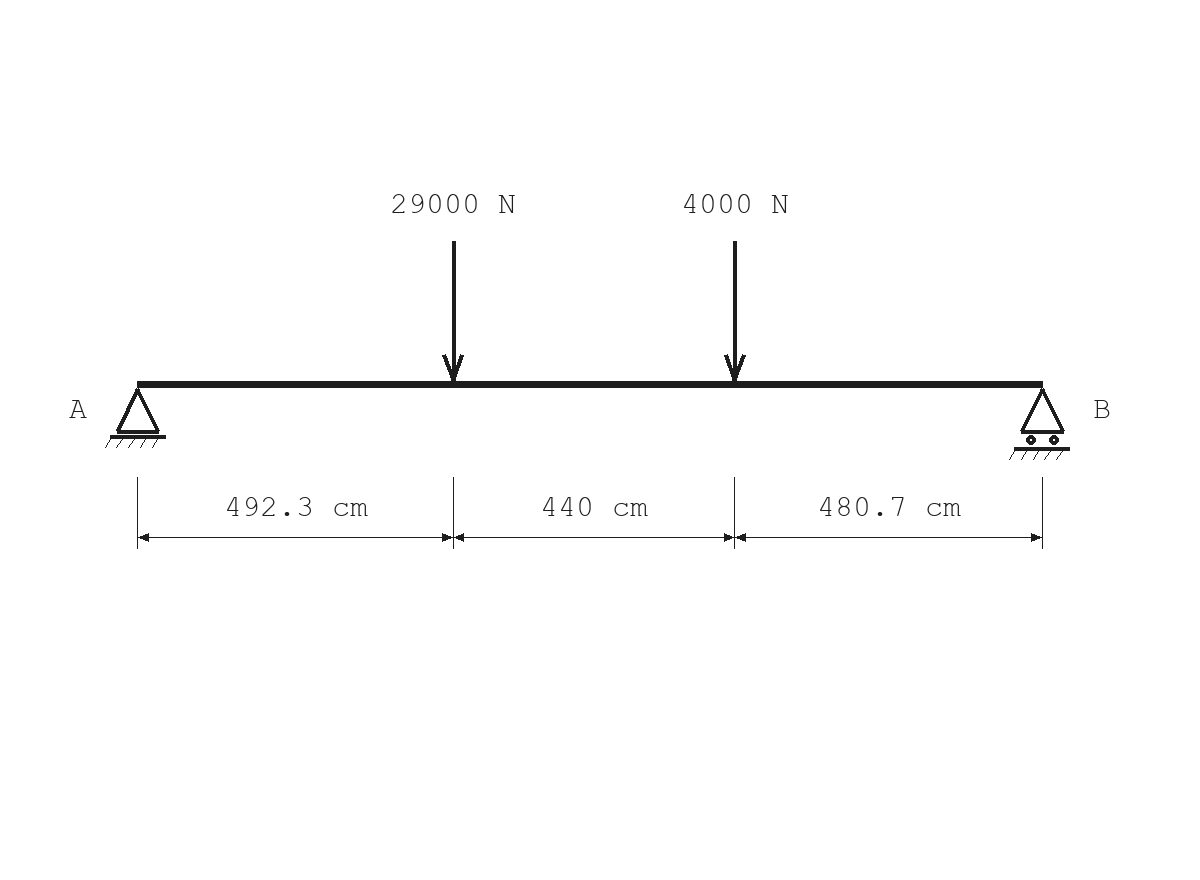pin_support: (105, 388, 166, 448)
point_load: (442, 241, 464, 382), (724, 241, 746, 382)
roller_support: (1009, 388, 1070, 460)
